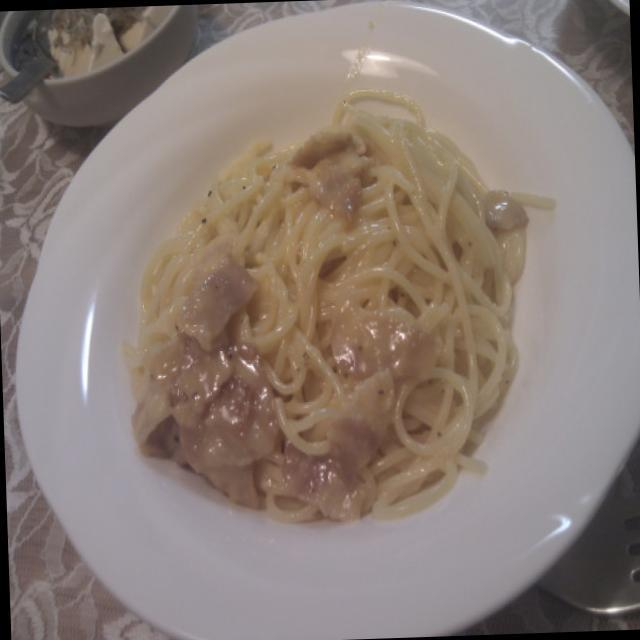Pasta: (113, 82, 528, 504)
